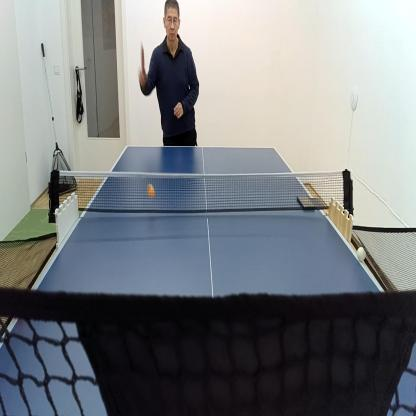Ball: (356, 244, 367, 264), (147, 183, 155, 200)
